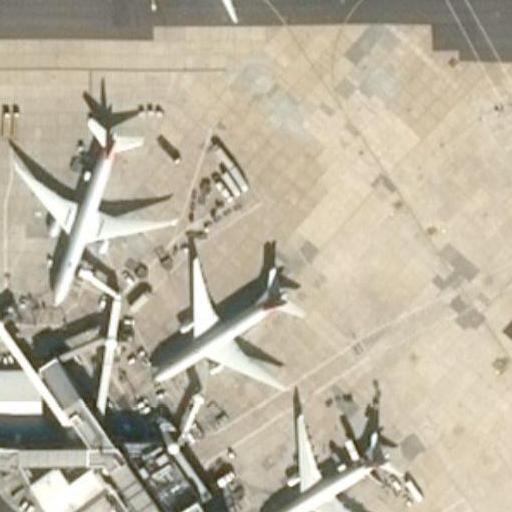Aircraft: (1, 101, 182, 305), (146, 251, 299, 390), (258, 408, 396, 512), (173, 0, 282, 19)
